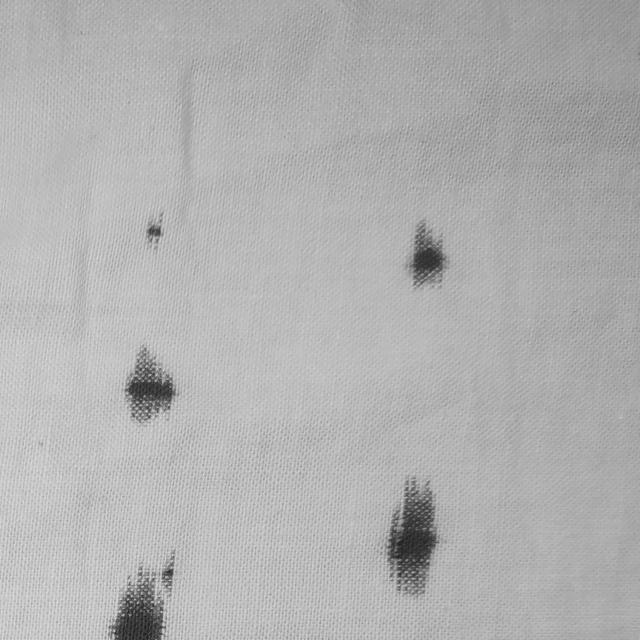Stain: (387, 477, 437, 596), (110, 556, 174, 640), (124, 346, 175, 424), (408, 220, 447, 289), (145, 212, 163, 250)
